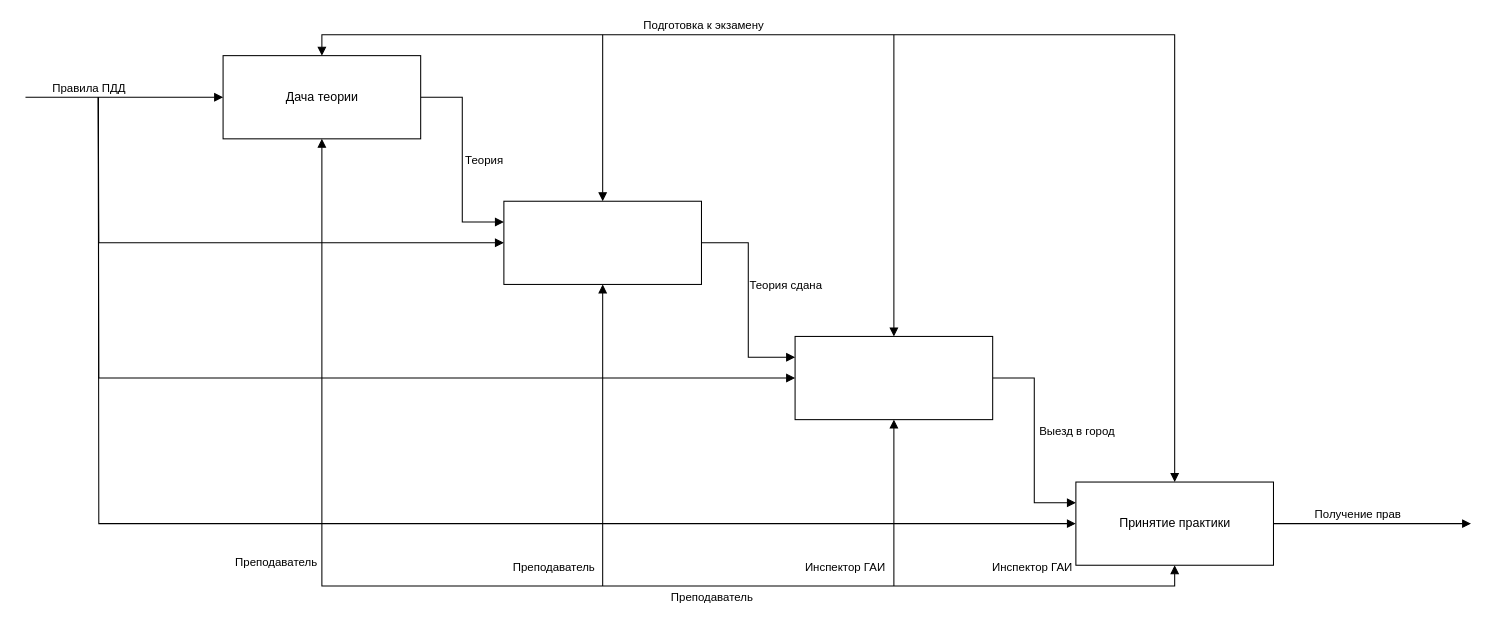
Image size: 1498x621. Some labels were removed from this diagram. Each missing label, with the centre of its shape:
Подготовка к практике: point (893, 377)
Принятие экзамена по теории: point (602, 242)
